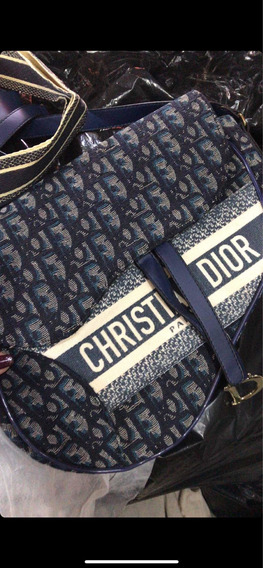cartera: (1, 51, 263, 475)
